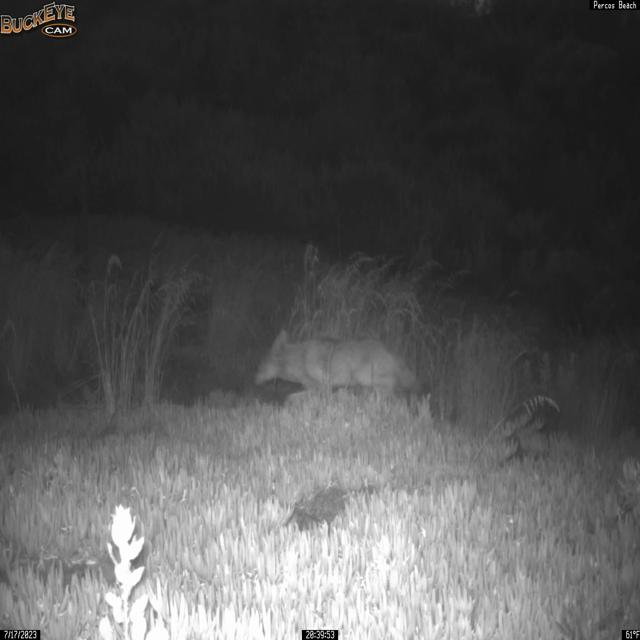coyote: (253, 328, 424, 407)
